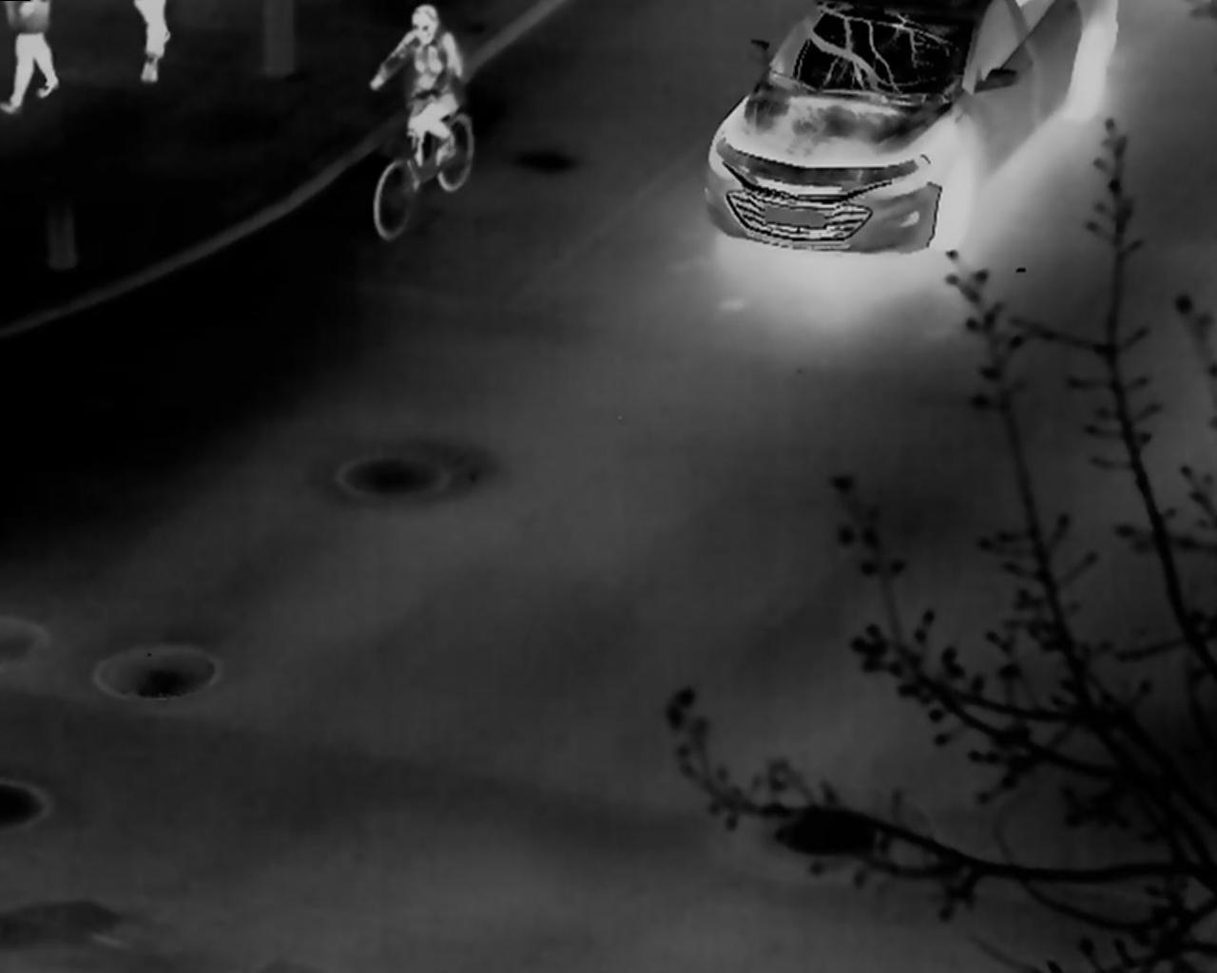person: (132, 2, 172, 83)
